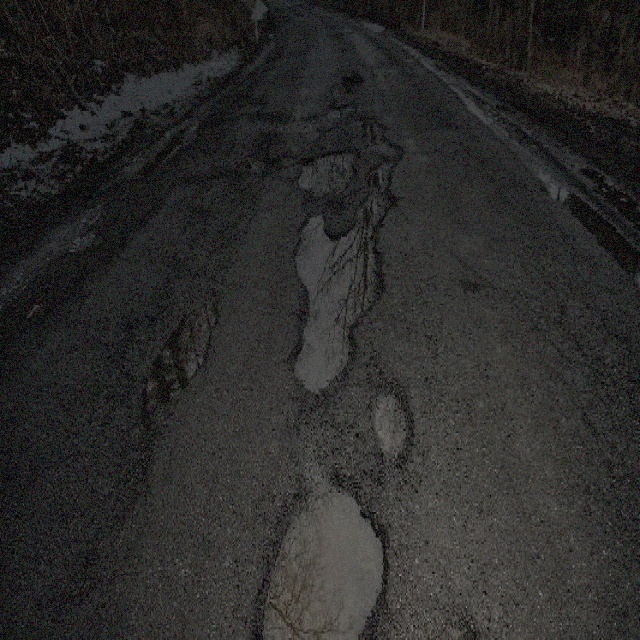pothole: (255, 476, 392, 638), (292, 211, 386, 393), (138, 290, 221, 429), (359, 109, 401, 215), (371, 382, 413, 465), (297, 145, 359, 196), (323, 98, 357, 120)
